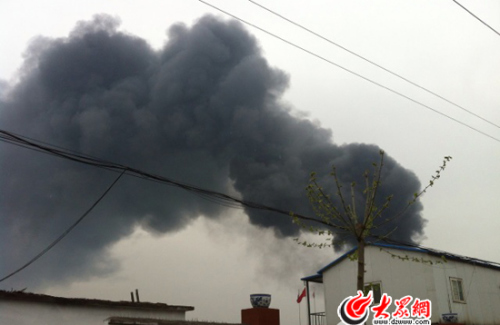smoke: (29, 43, 425, 237)
